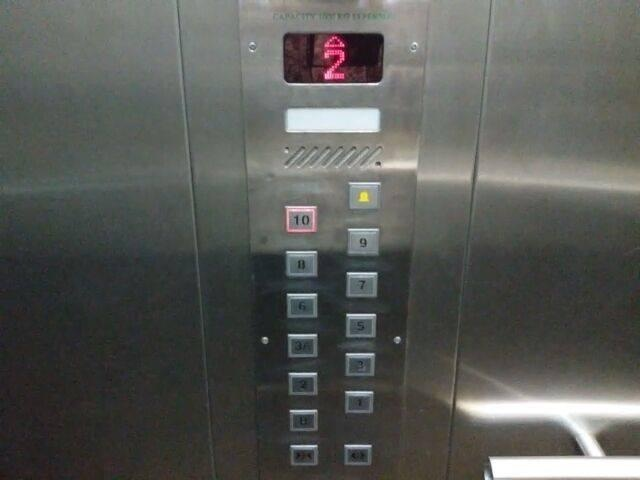1: (344, 390, 375, 416)
10: (284, 204, 319, 236)
2: (287, 371, 321, 398)
3: (344, 351, 378, 378)
3A: (286, 333, 320, 360)
5: (343, 311, 378, 341)
6: (285, 291, 320, 321)
7: (345, 270, 379, 299)
8: (283, 248, 318, 280)
9: (345, 227, 380, 259)
G: (289, 408, 320, 434)
alarm: (346, 179, 382, 214)
close: (290, 443, 321, 469)
led: (280, 28, 387, 91)
open: (343, 443, 374, 469)
